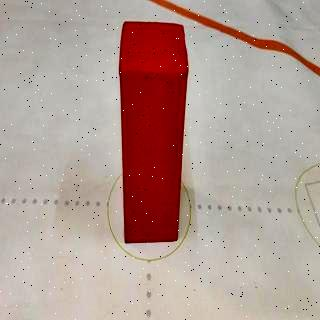redbox: (117, 22, 187, 244)
